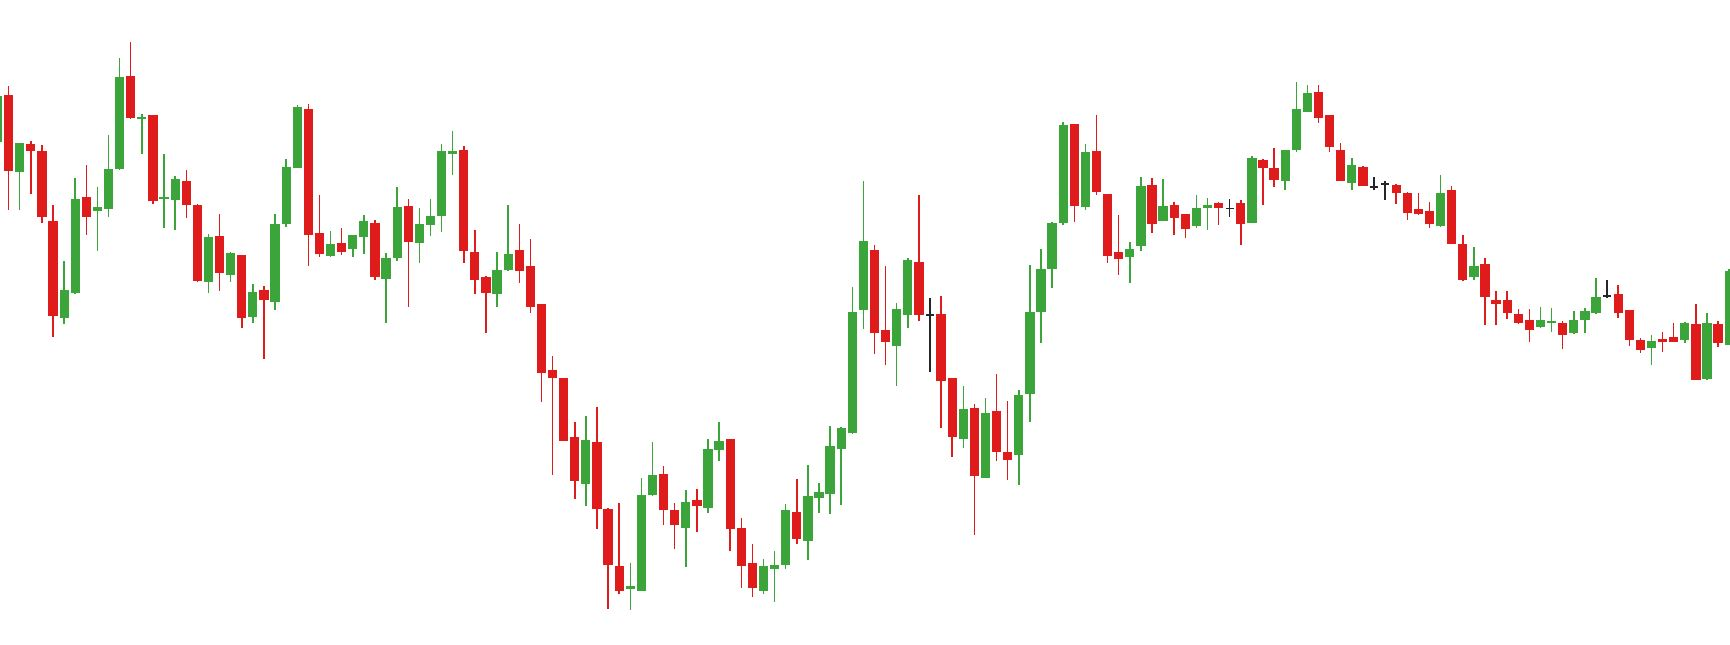buy: (679, 472, 779, 604)
